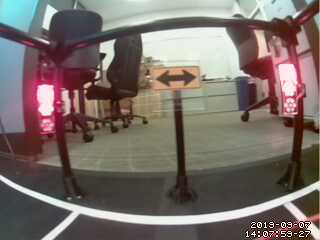Left_Right_sign: (149, 68, 205, 91)
Traffic_light_red: (276, 63, 298, 118), (38, 84, 54, 132)
